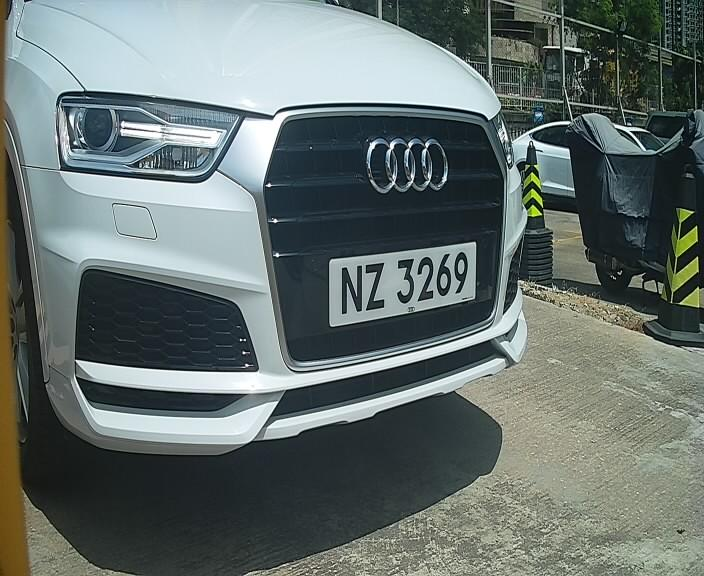License Plate: (324, 232, 481, 332)
